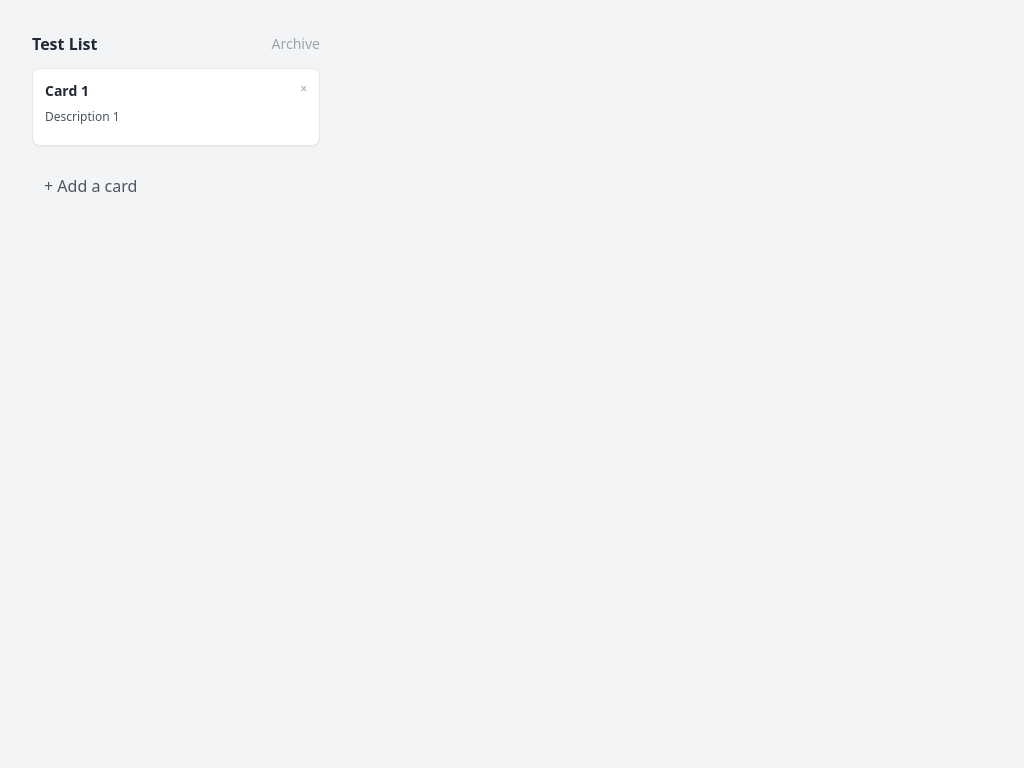
Board › should handle card edit when card is clicked
The width and height of the screenshot is (1024, 768).
# Click on the card to edit
Click the heading "Card 1". click: {"x": 67, "y": 90}
box: [45,81,89,100]
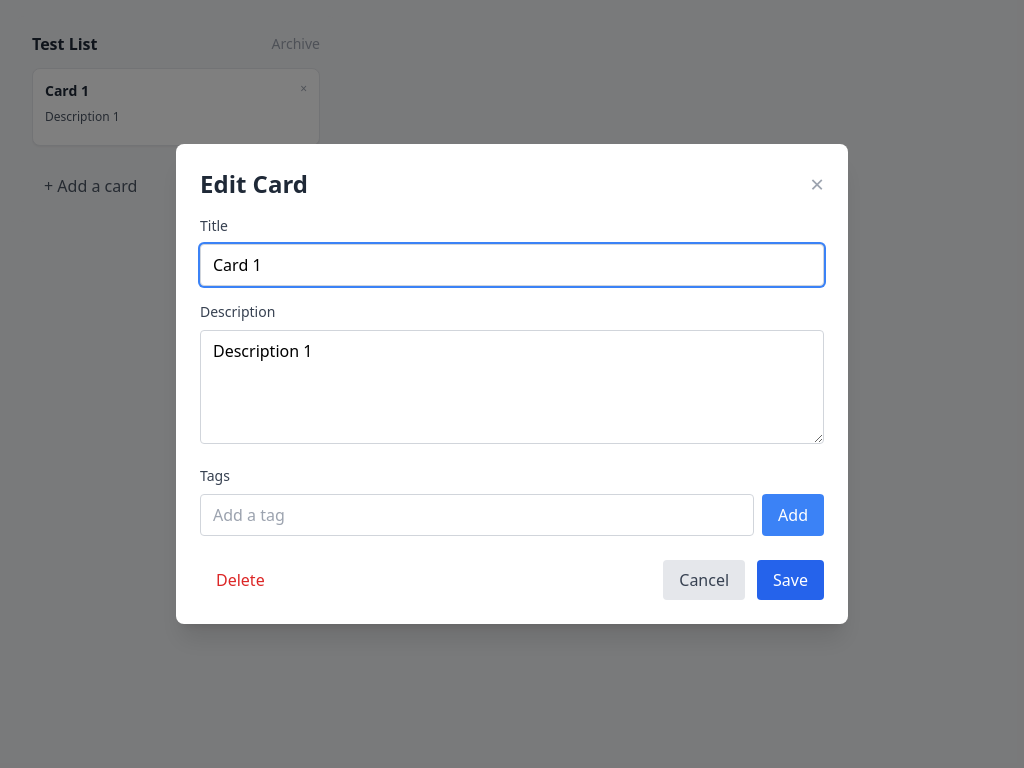
Result: the heading "Edit Card" is shown at [200,168,308,200]
